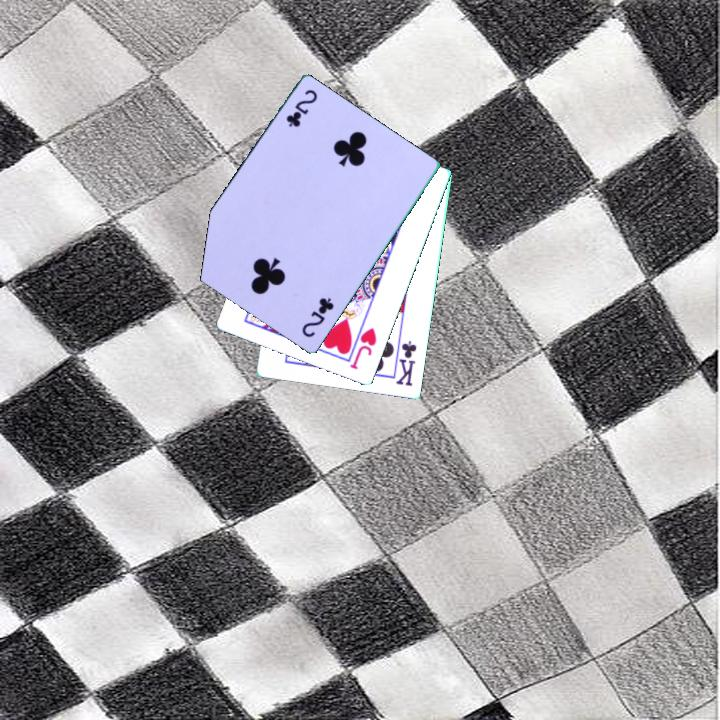2c: (298, 294, 337, 341), (282, 86, 320, 131)
Jh: (346, 324, 380, 373)
Kc: (393, 337, 420, 389)
